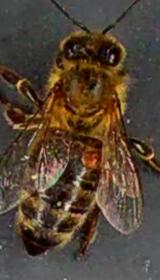varroa_mite: (77, 143, 107, 173)
